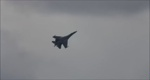maybay_muctieu: (50, 30, 79, 49)
